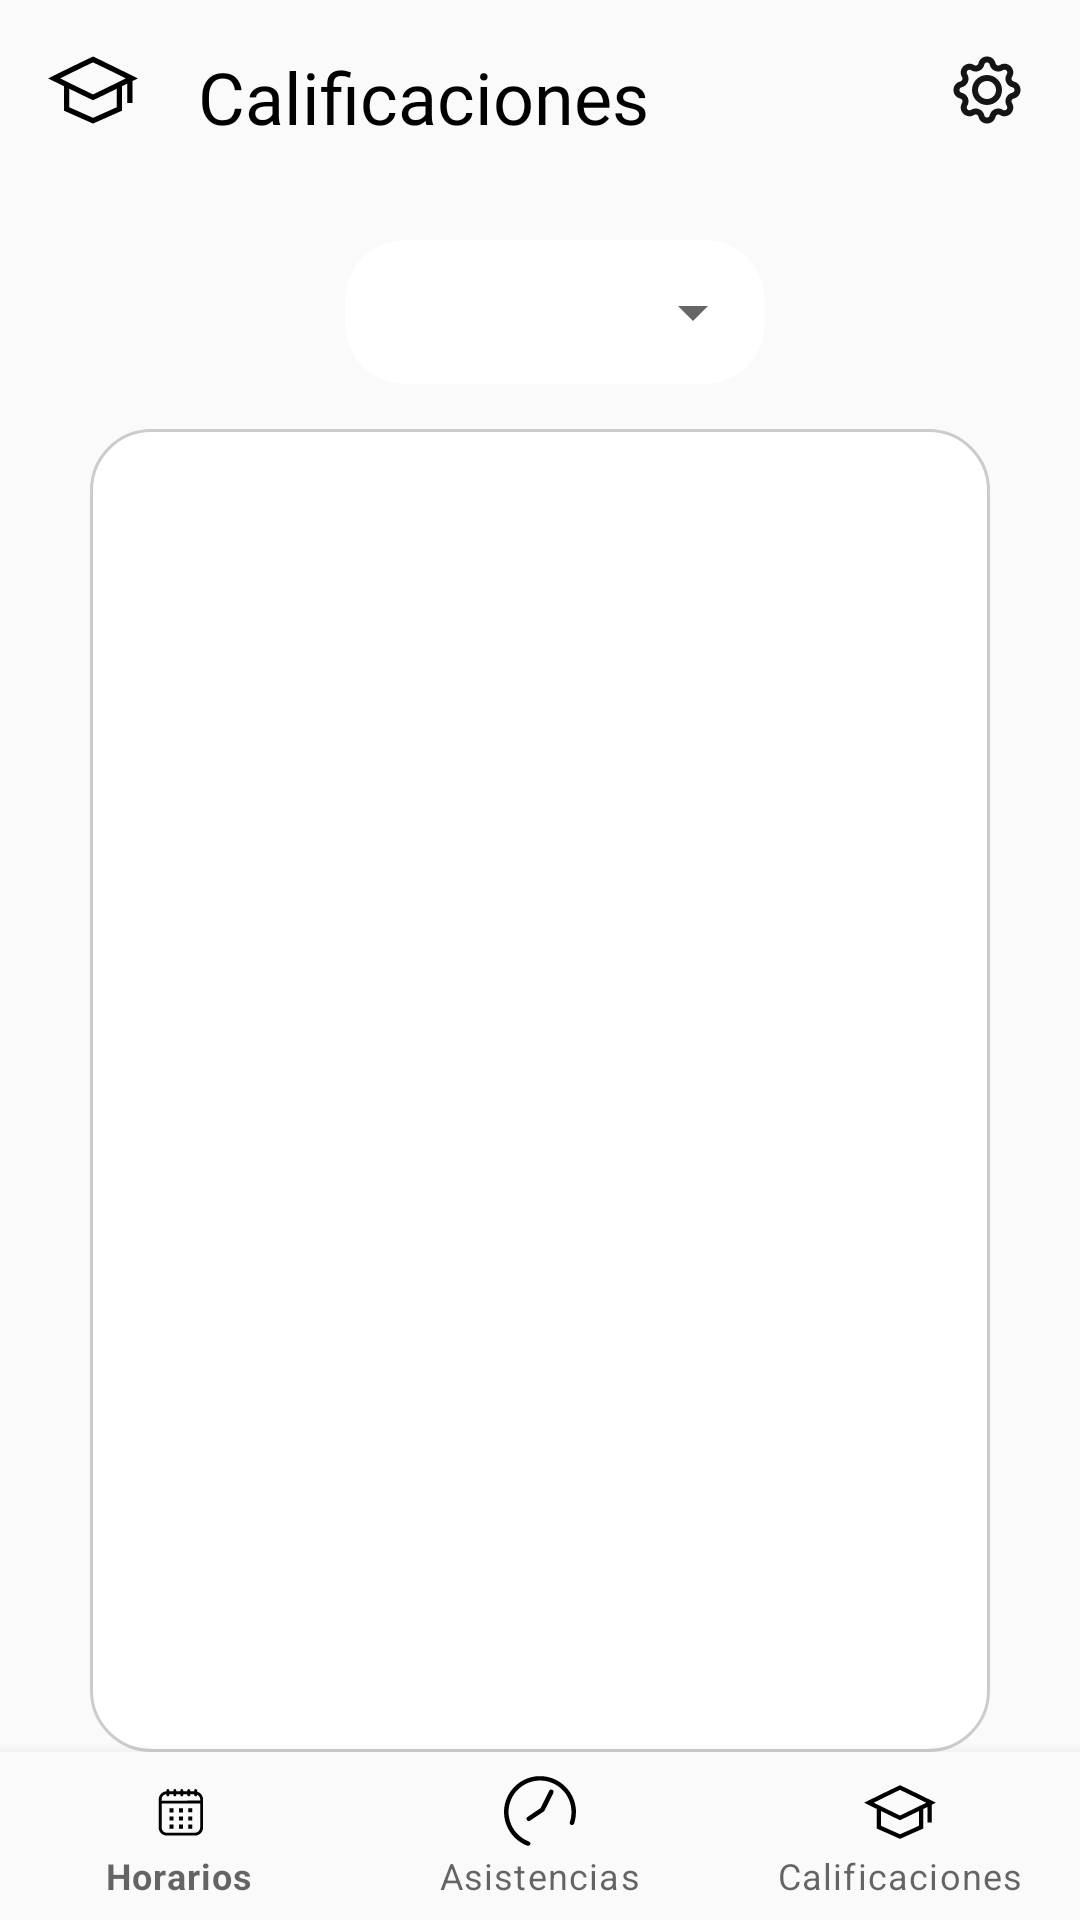

Icon click points for this 1080×1920 phone screenshot, format point (x, y):
Ícono calificación: point (93, 90)
Ícono de configuración: point (987, 90)
